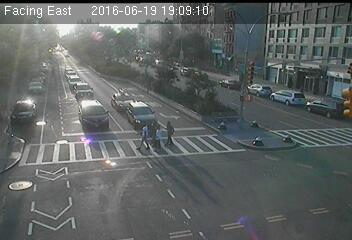neg: (19, 152, 41, 181), (58, 105, 79, 133), (92, 173, 113, 200), (66, 73, 84, 97), (142, 194, 159, 216), (226, 176, 243, 198), (85, 45, 101, 67), (30, 43, 46, 65), (23, 110, 39, 132), (301, 67, 317, 88), (278, 130, 293, 150), (68, 139, 83, 158), (305, 128, 320, 147), (261, 79, 275, 98), (304, 171, 318, 190), (210, 71, 224, 89), (247, 134, 260, 152), (171, 61, 184, 78), (128, 61, 141, 78), (189, 183, 202, 200)
pos: (163, 119, 184, 146), (151, 124, 170, 150), (136, 122, 155, 147)
